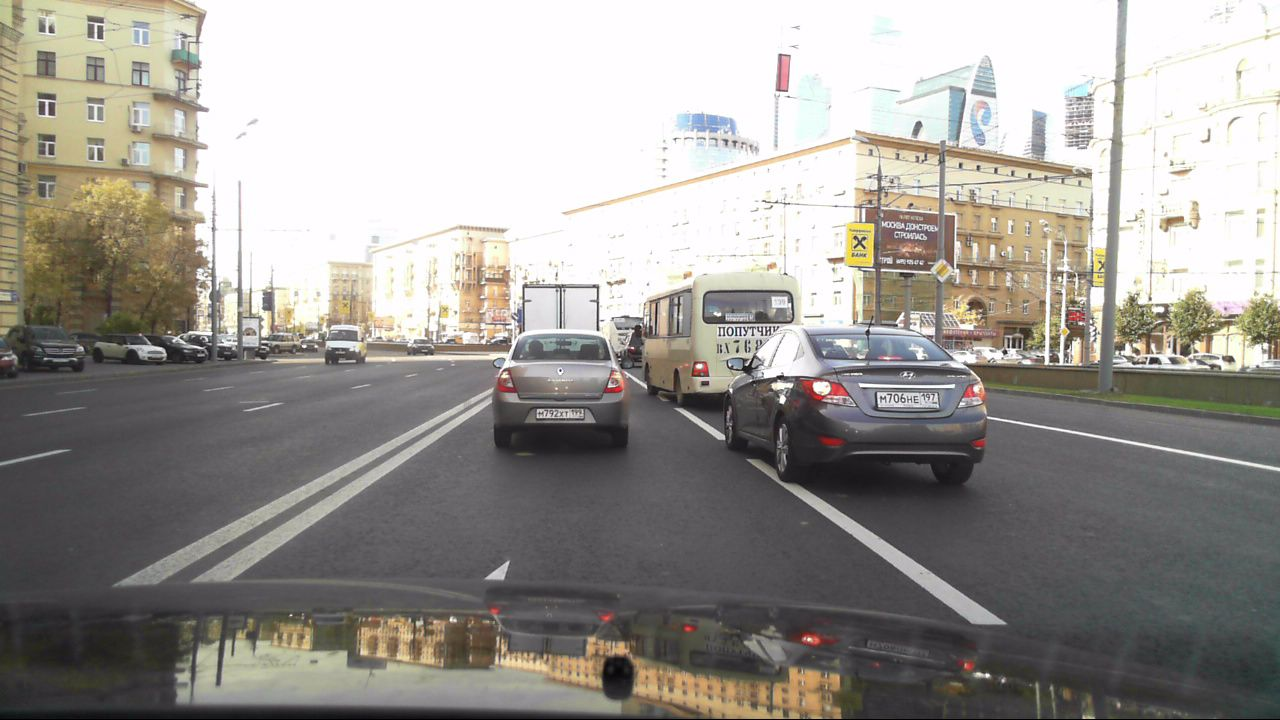main road: (929, 258, 952, 283)
